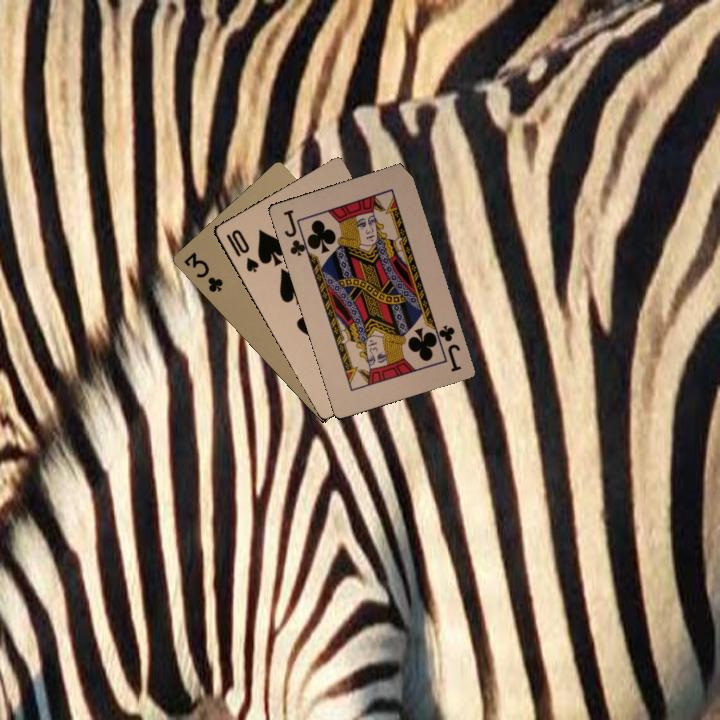10s: (222, 225, 261, 275)
3c: (180, 248, 226, 295)
Jc: (279, 206, 313, 259), (429, 321, 463, 374)
